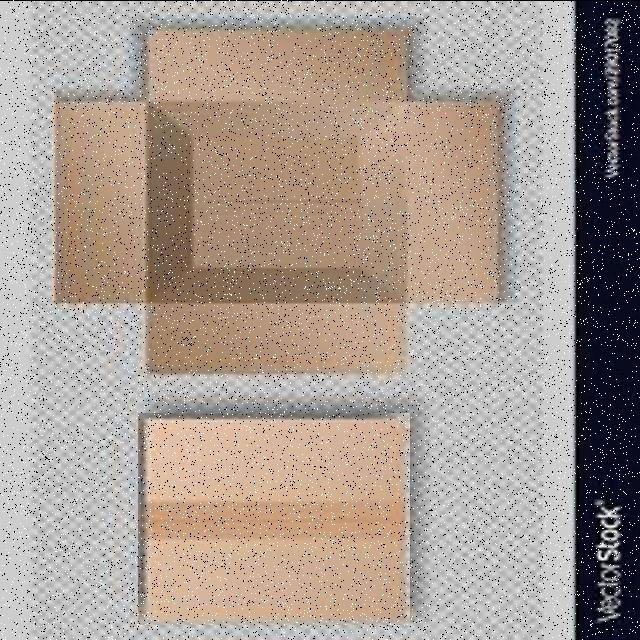defect: (52, 16, 505, 378)
normal: (138, 412, 410, 624)
